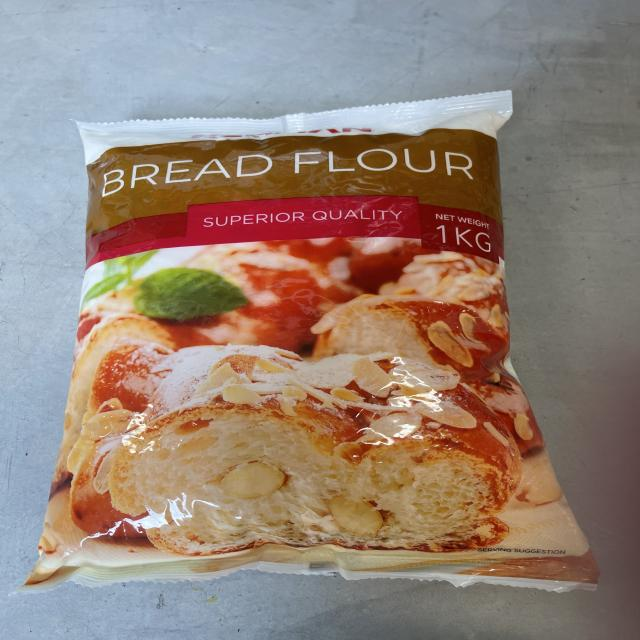object_name: (80, 122, 535, 577)
